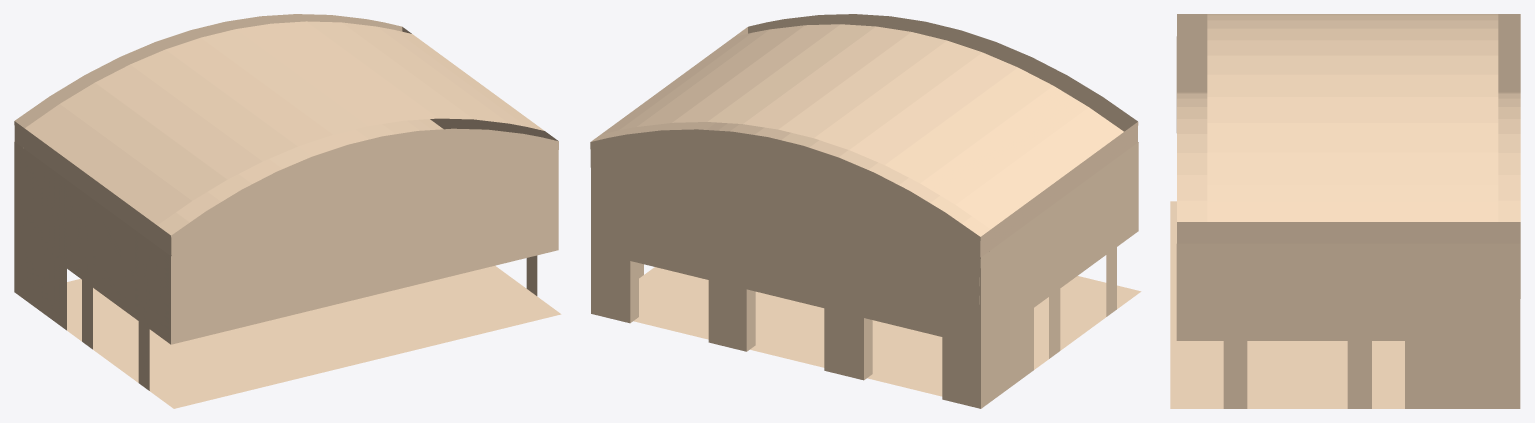
Rendered from if_main_building.glb.
The picture shows the model from 3 angles, left to right: view 1: azimuth 30°, elevation 25°; view 2: azimuth 150°, elevation 25°; view 3: azimuth 270°, elevation 25°; orthographic projection. The views are drawn at different scales.
Visible parts, largest first — view 1: teto, predio; view 2: teto, predio; view 3: teto, predio.
Boxes of the visible parts, x1,y1,x2,y2 form: teto: (14,14,558,255); predio: (14,141,561,408); teto: (590,14,1138,307); predio: (591,142,1141,408); teto: (1177,14,1520,298); predio: (1170,36,1520,408).
Bounding box in the file's own units: 10.01 × 5.39 × 7.14.
